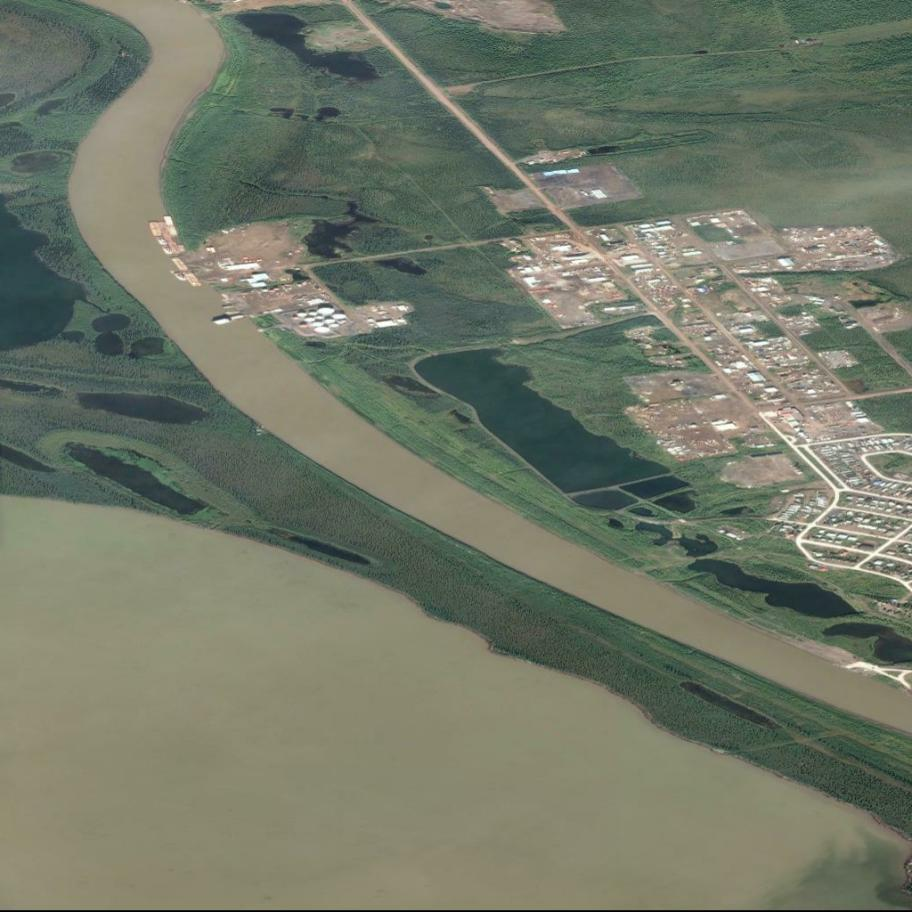storage-tank: (314, 326, 329, 335), (319, 308, 334, 315), (334, 314, 346, 321), (313, 322, 324, 329), (297, 313, 307, 319), (330, 323, 338, 329), (326, 319, 334, 325), (306, 318, 315, 323), (310, 312, 318, 317), (318, 315, 324, 321)
